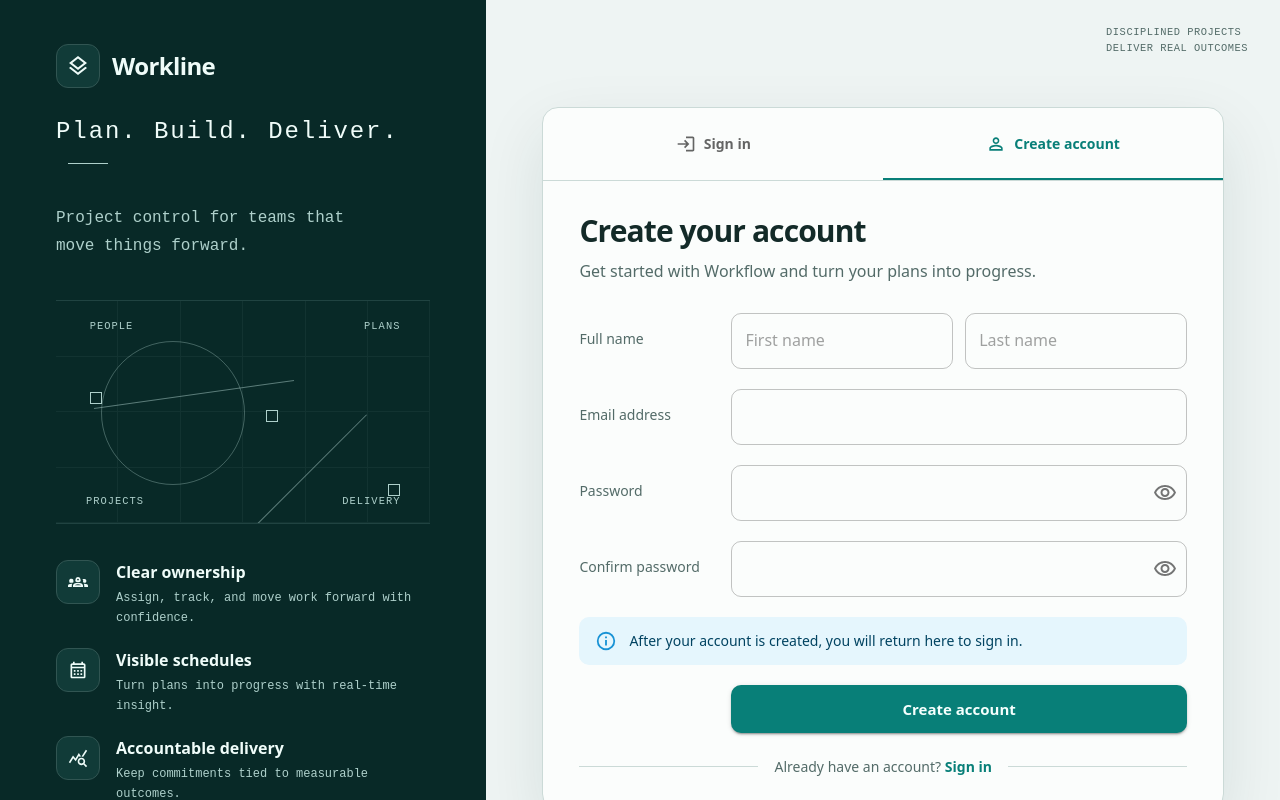
Test case: registration flow › prevents duplicate registration submissions
Type "Taylor" into the field labelled "First name".
click(842, 341); type("Taylor")  # box [731, 313, 953, 369]
Type "Kim" into the field labelled "Last name".
click(1076, 341); type("Kim")  # box [965, 313, 1187, 369]
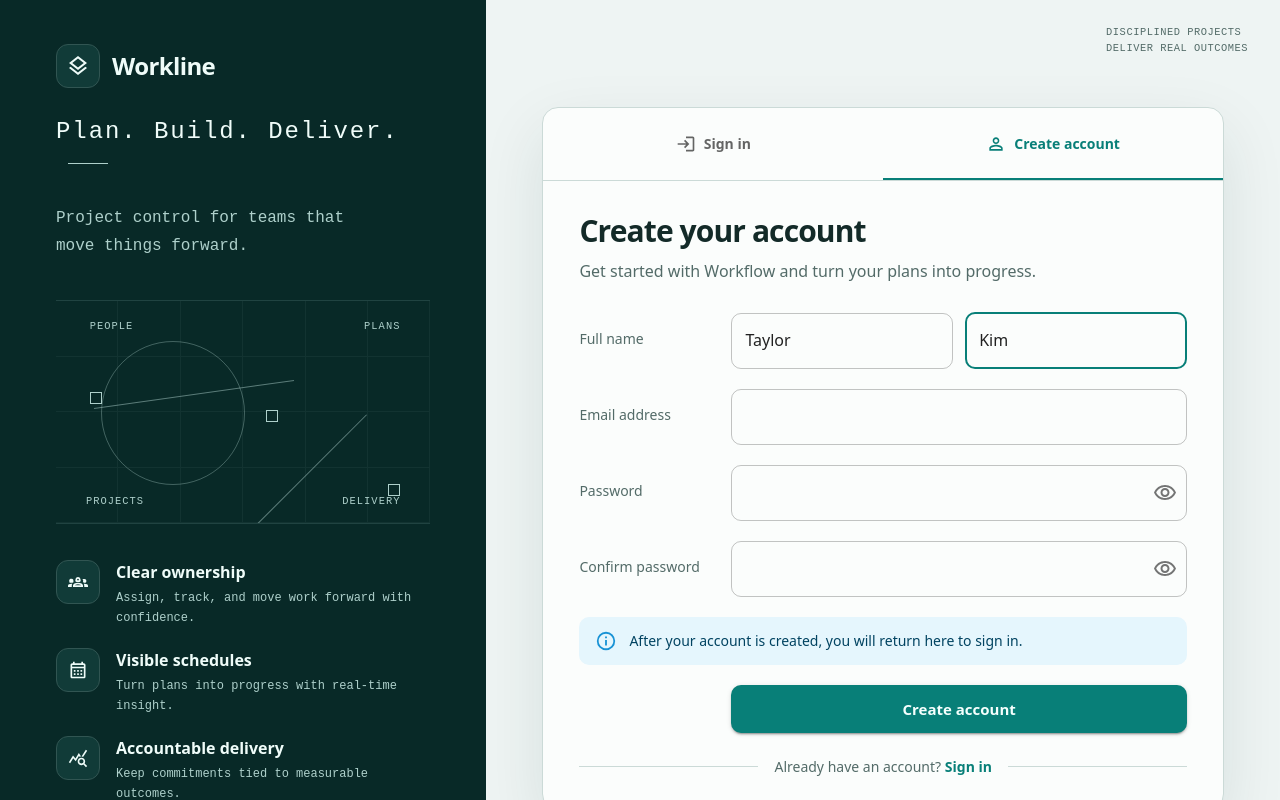
Type "taylor@example.com" into the field labelled "Email address".
click(959, 417); type("taylor@example.com")  # box [731, 389, 1187, 445]
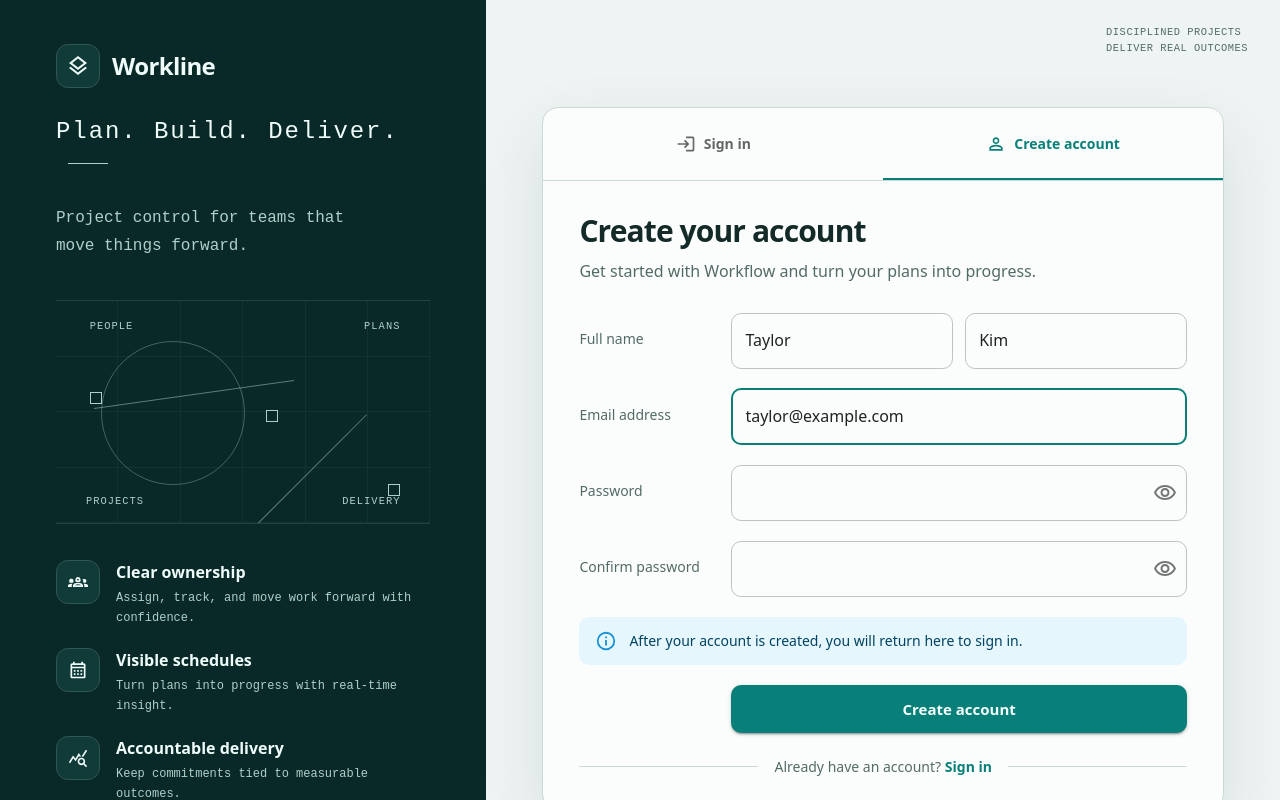
Type "secret1" into the password field labelled "Password".
click(934, 493); type("secret1")  # box [731, 465, 1137, 521]
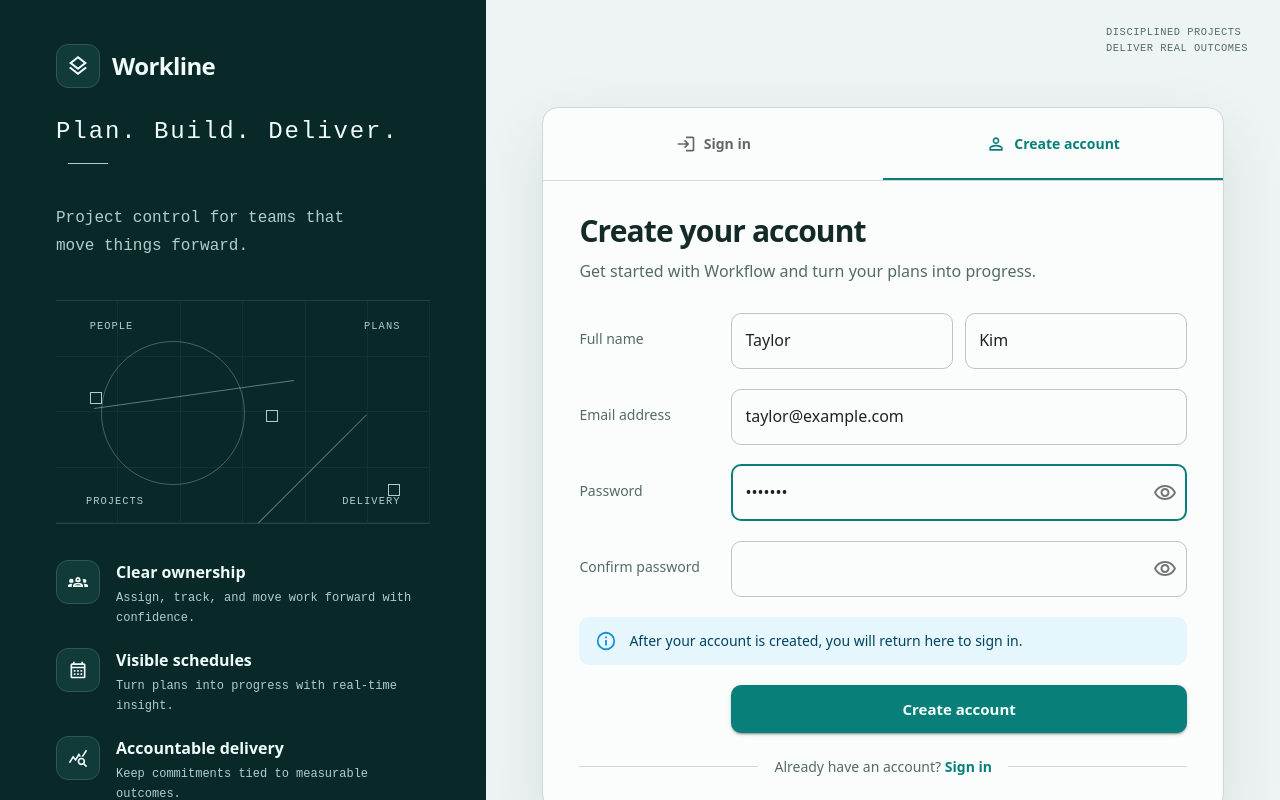
Type "secret1" into the password field labelled "Confirm password".
click(934, 569); type("secret1")  # box [731, 541, 1137, 597]
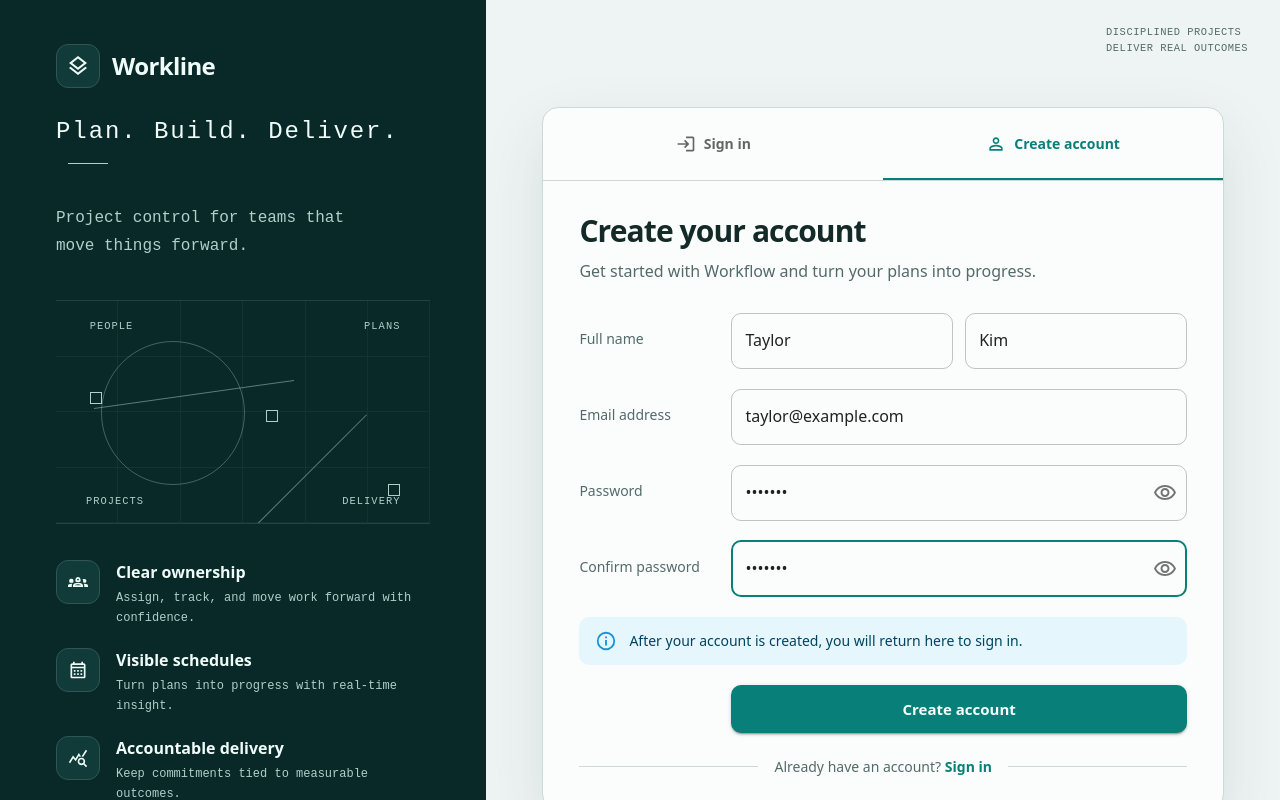
Click the button "Create account".
click(959, 709)  # box [731, 685, 1187, 733]
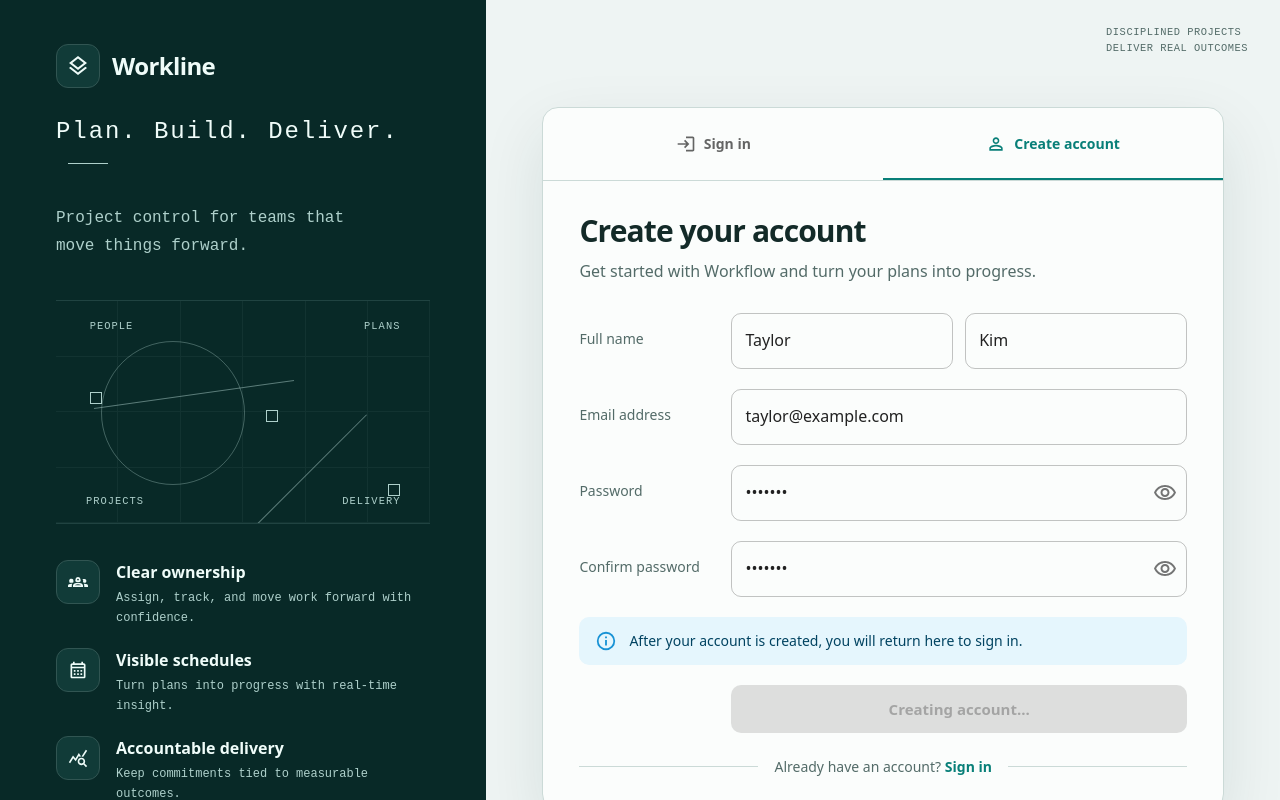
Now the button named "Create account" is disabled
Click the button named "Create account".
click(959, 709)  # box [731, 685, 1187, 733]
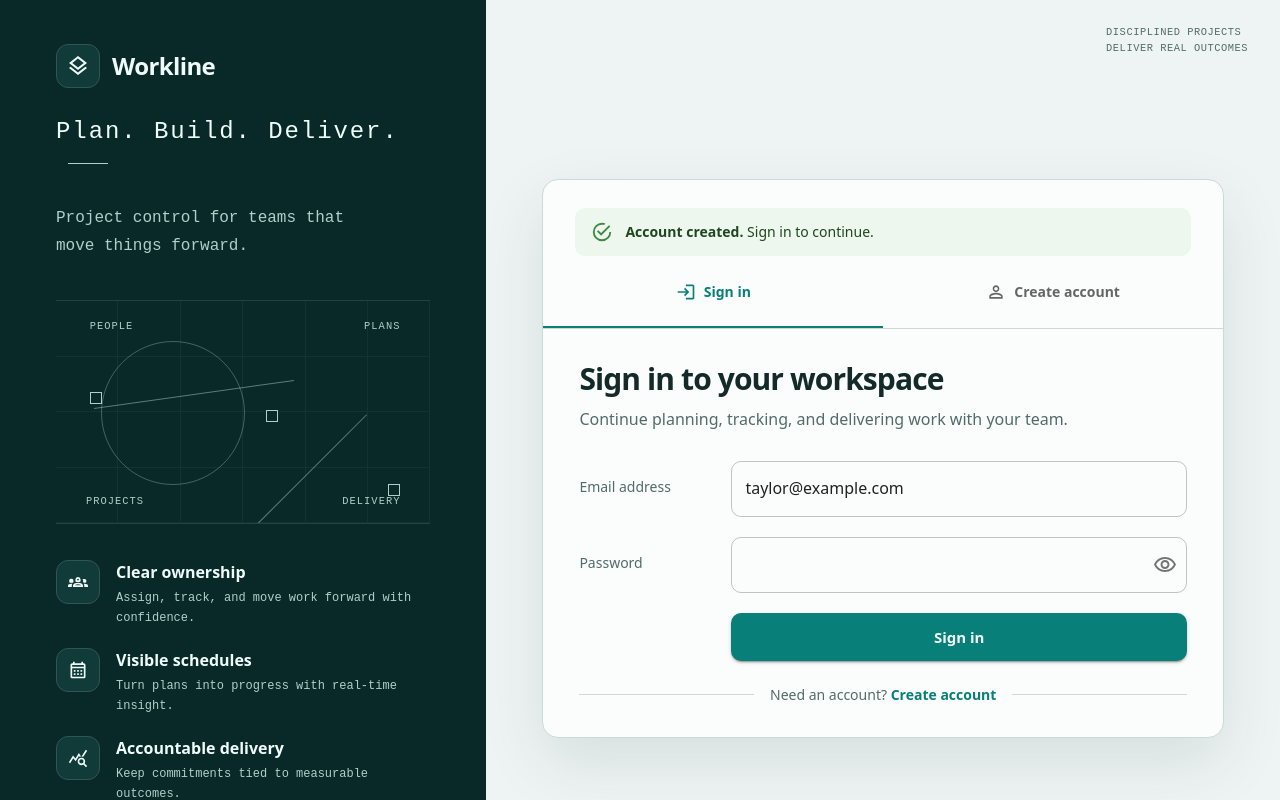
Now the text "Account created." is shown, box [625, 222, 743, 241]
